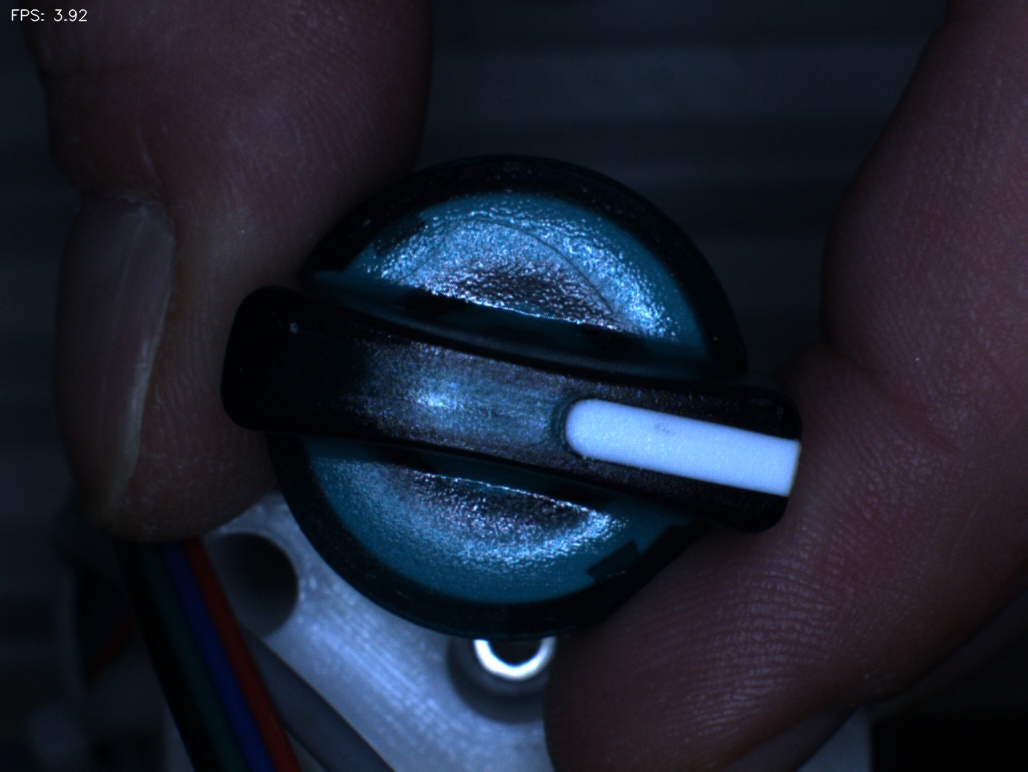PointNoir: (625, 383, 702, 467)
